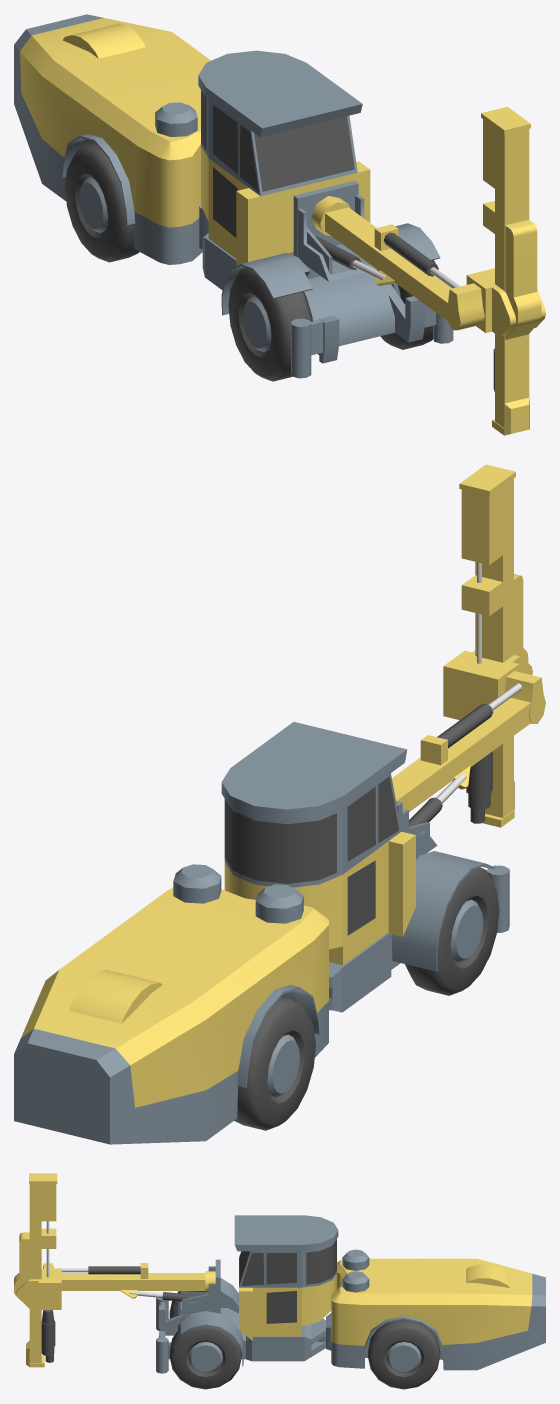
Rendered from Boltec_1700_v.fbx.
3 views of the same model, one above another, from view 1: azimuth 30°, elevation 25°; view 2: azimuth 150°, elevation 25°; view 3: azimuth 270°, elevation 25° (orthographic). The views are drawn at different scales.
Visible parts, largest first — view 1: Boltec; view 2: Boltec; view 3: Boltec.
Boxes of the visible parts, box(x1,y1,x2,y2) form: Boltec: box(14, 14, 545, 435); Boltec: box(14, 464, 545, 1144); Boltec: box(14, 1173, 545, 1389).
Bounding box in the file's own units: 239 × 450 × 1082.
